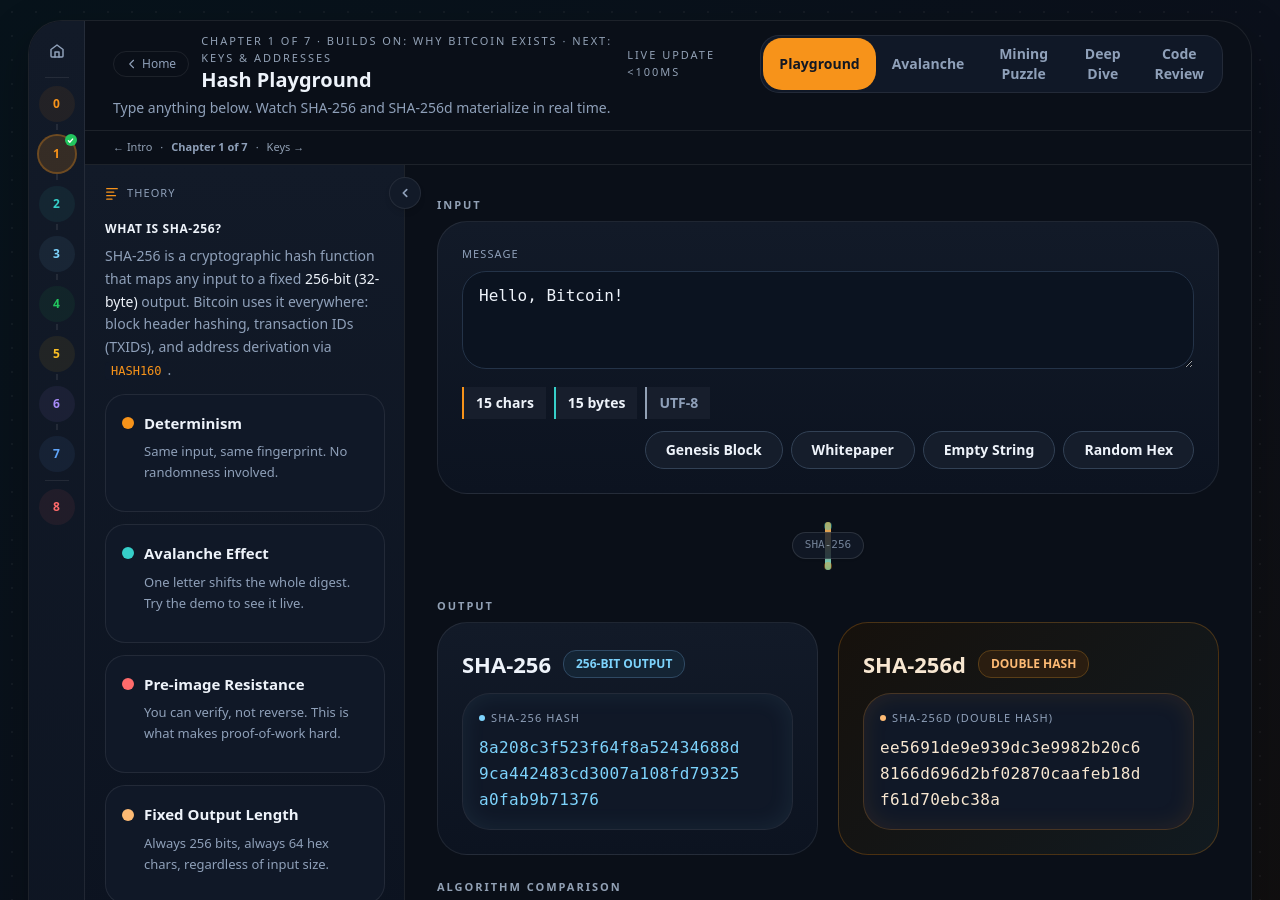
Scenario: HashPlayground › loads Empty String preset and shows famous hash constant
Click the button "Empty String". click: (989, 450)
box: [923,430,1055,468]
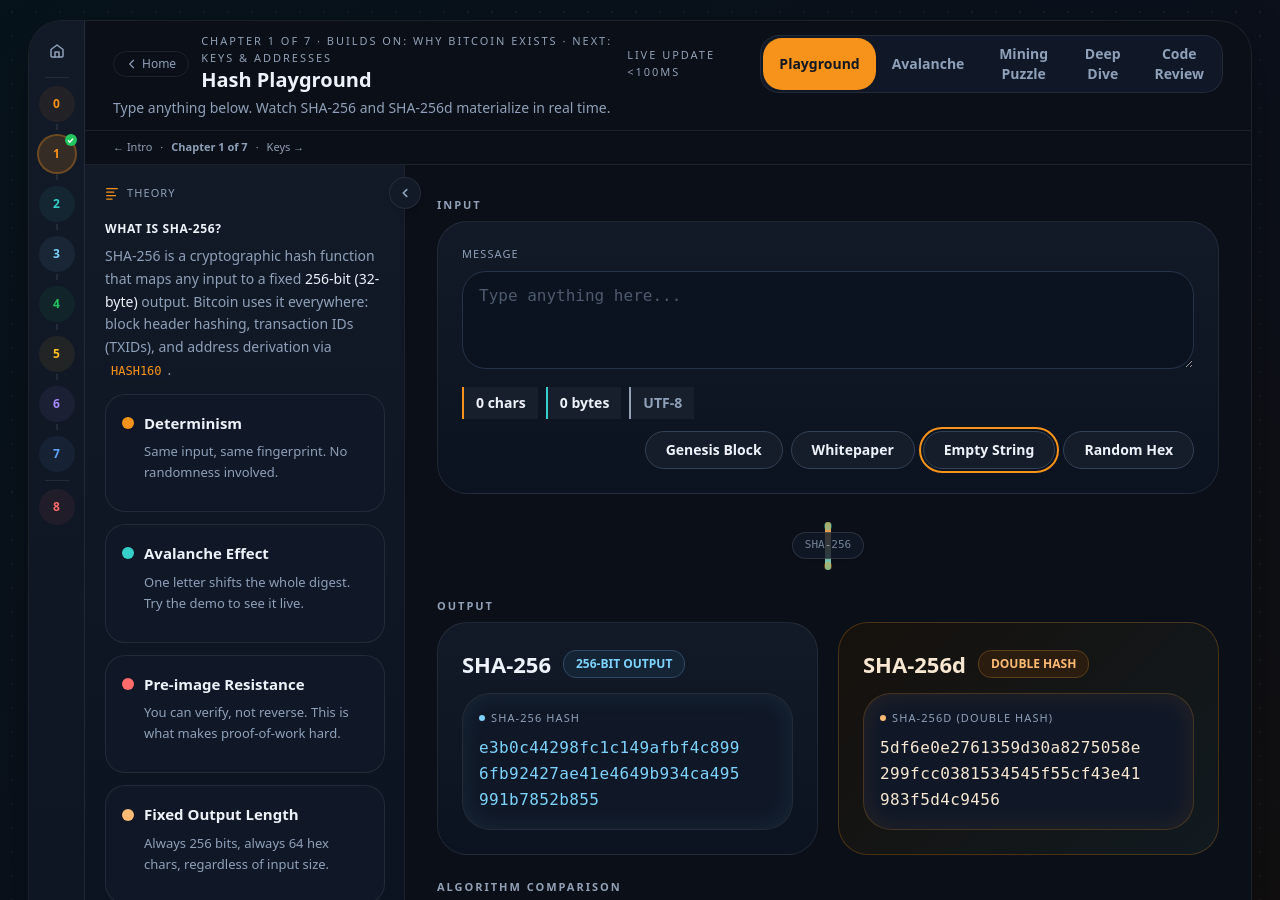
expect the text "e3b0c44298fc" is shown: met, box [479,738,740,809]
